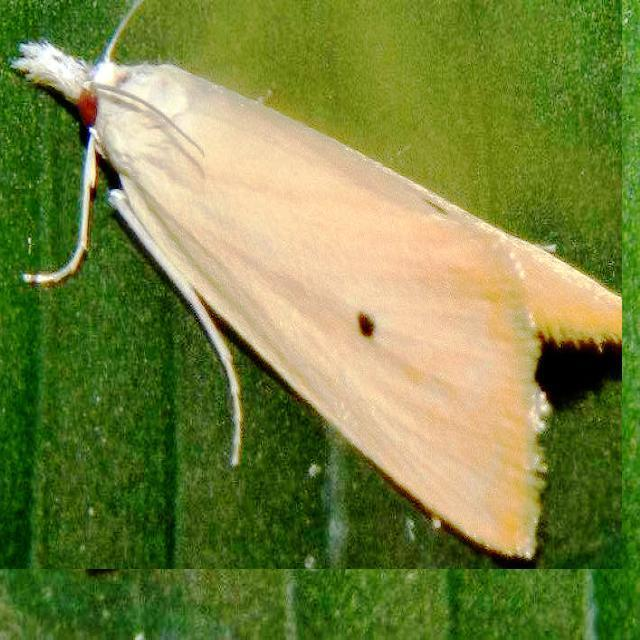stem-borer: (0, 0, 622, 569)
